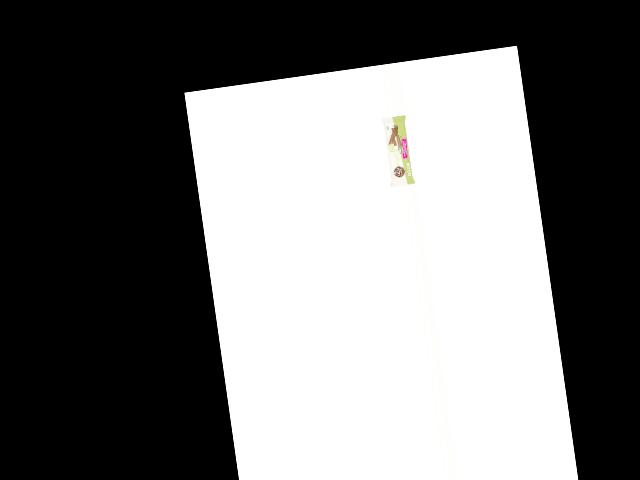chocolate: (379, 113, 417, 186)
